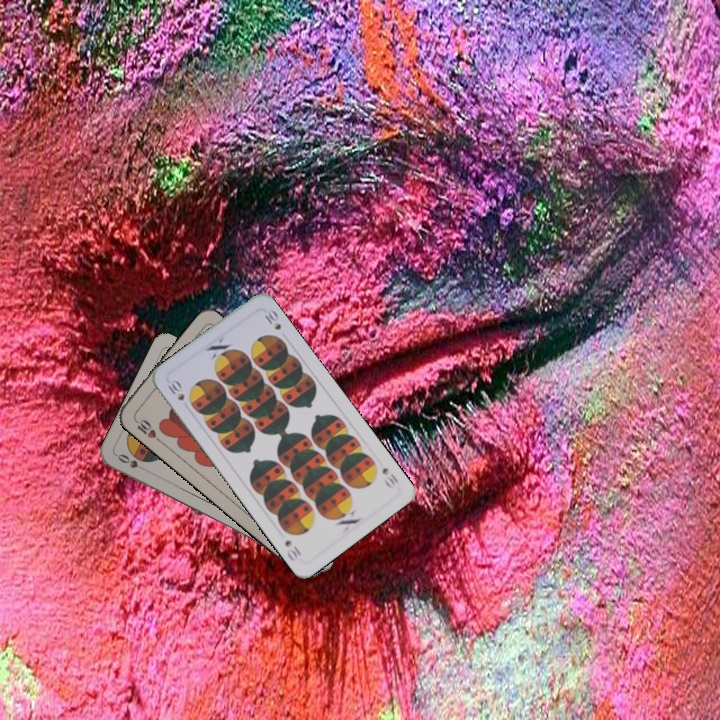H10: (130, 414, 163, 445)
S10: (378, 463, 401, 491), (164, 376, 187, 403)
SO: (112, 450, 150, 474)
